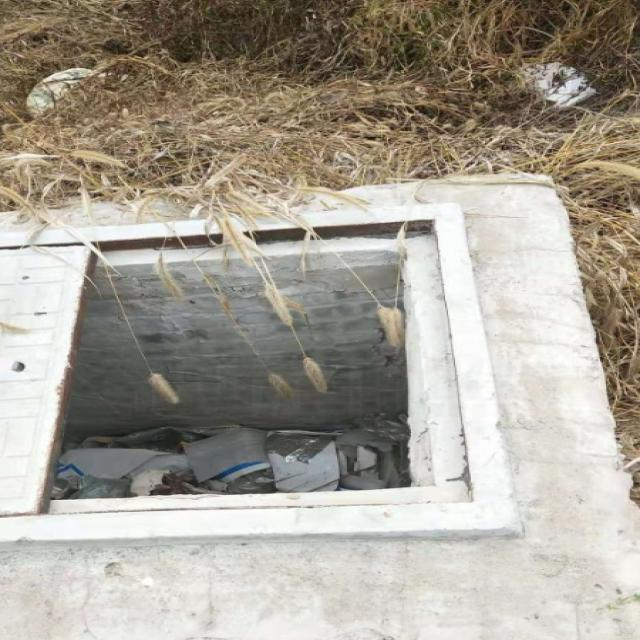Faulty: (0, 187, 536, 540)
